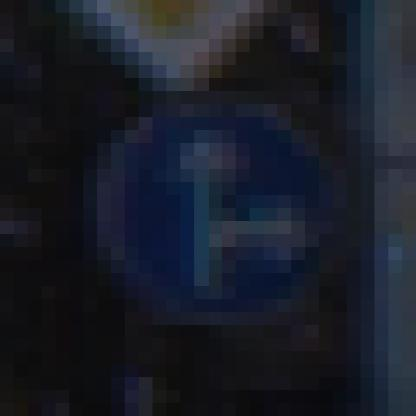Straight or Right: (70, 79, 348, 352)
